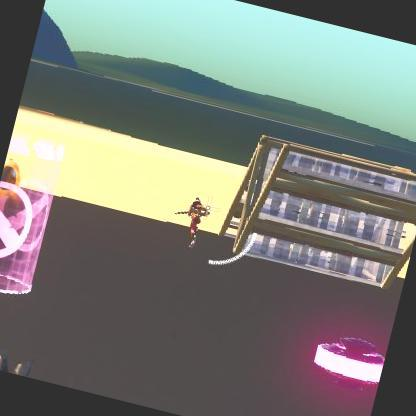person: (180, 195, 206, 236)
